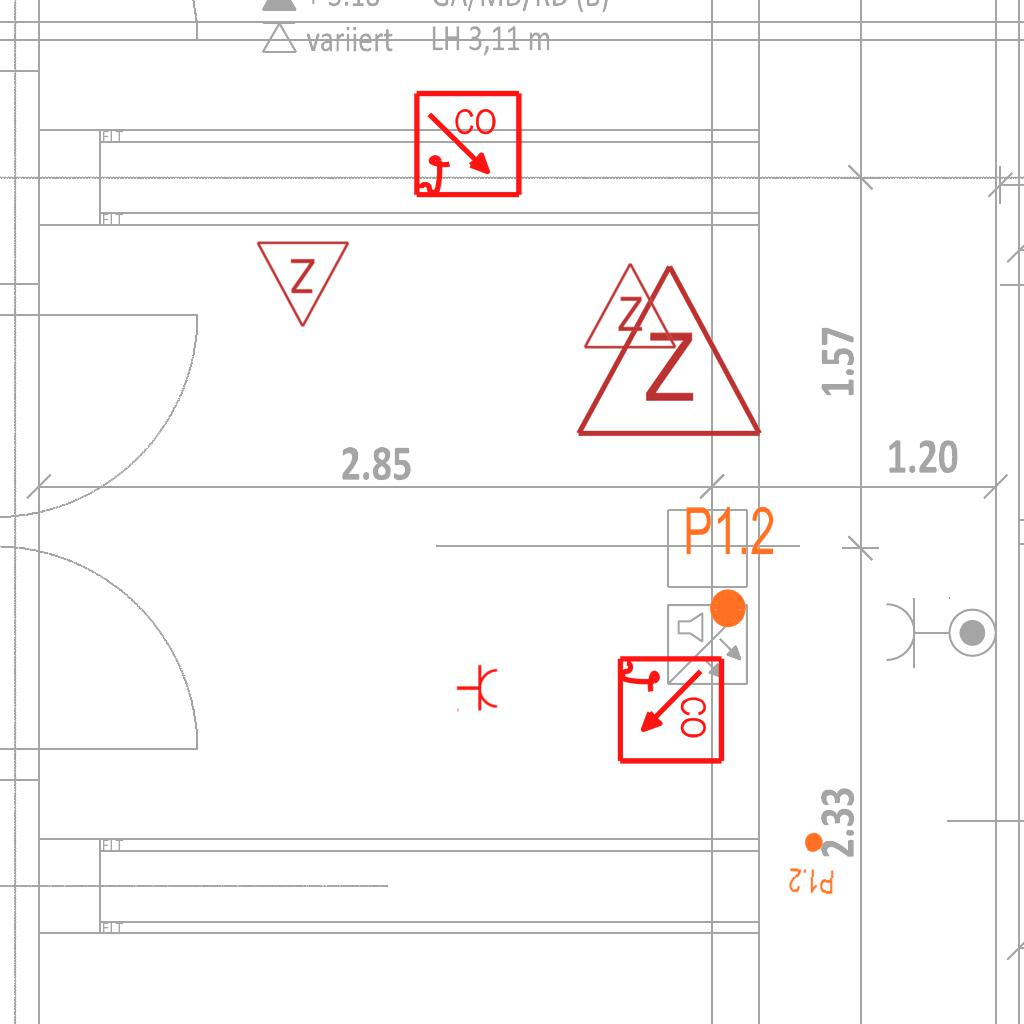Downlight_LED_Einbauleuchten_Flur: (683, 503, 776, 631), (787, 830, 837, 896)
ROA_Rauchmelder_optisch_mit_Signalgeber_(Sockelsirene): (412, 89, 525, 202), (613, 654, 726, 767)
Schukosteckdose_einfach: (456, 664, 499, 714)
Zimmersignalleuchte: (569, 251, 765, 451), (255, 234, 353, 334), (580, 256, 678, 356)
